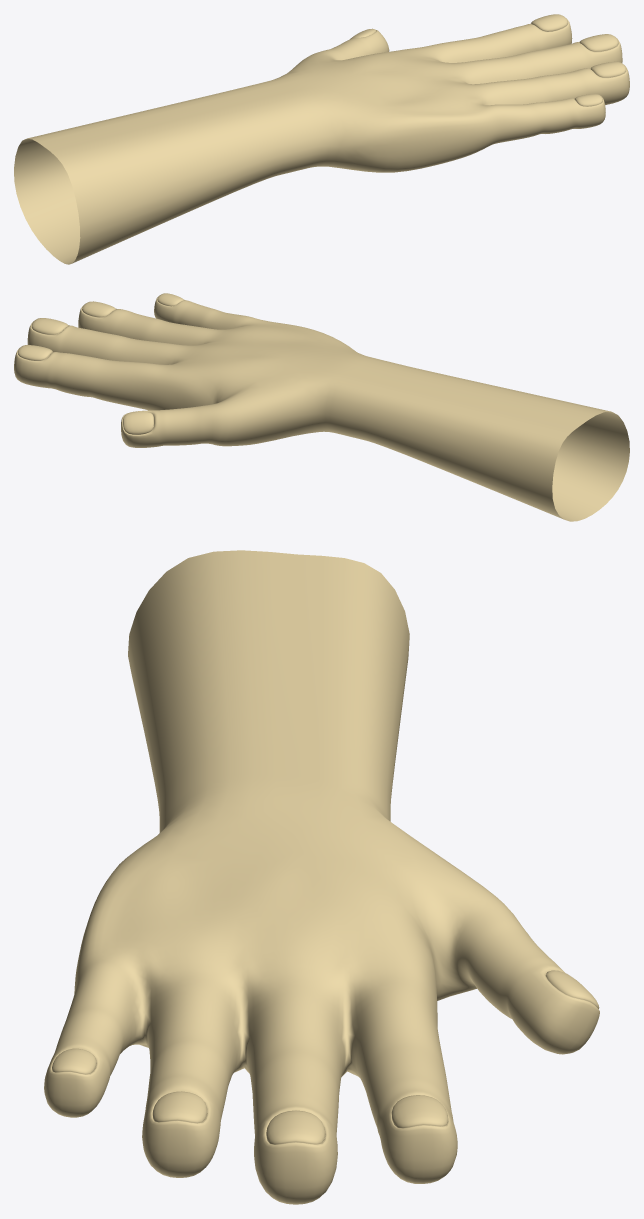
File: mao direita.fbx
The picture shows the model from 3 angles, top to bottom: view 1: azimuth 30°, elevation 25°; view 2: azimuth 150°, elevation 25°; view 3: azimuth 270°, elevation 25°; orthographic projection. The views are drawn at different scales.
Visible parts, largest first — view 1: MAO2 DIREITA; view 2: MAO2 DIREITA; view 3: MAO2 DIREITA.
Part boxes in pixels (x1,y1,x2,y2): MAO2 DIREITA: (14, 14, 629, 264); MAO2 DIREITA: (14, 293, 629, 521); MAO2 DIREITA: (44, 550, 599, 1204).
Bounding box in the file's own units: 20.41 × 3.4 × 8.83.
